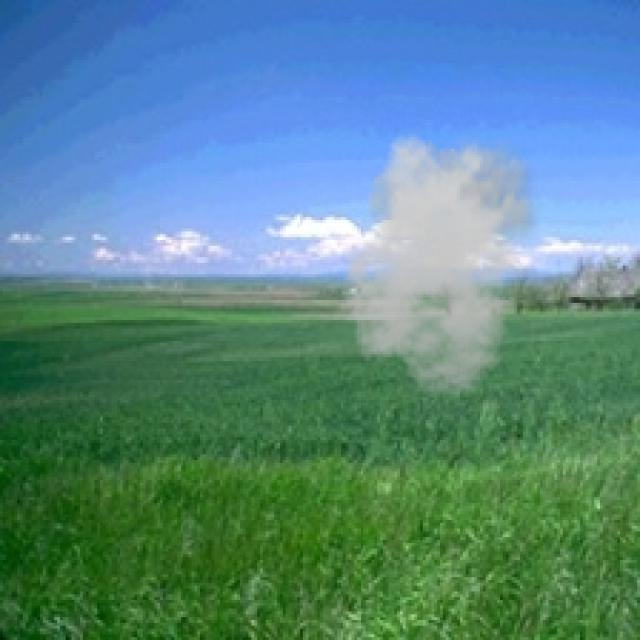smoke: (337, 126, 543, 397)
